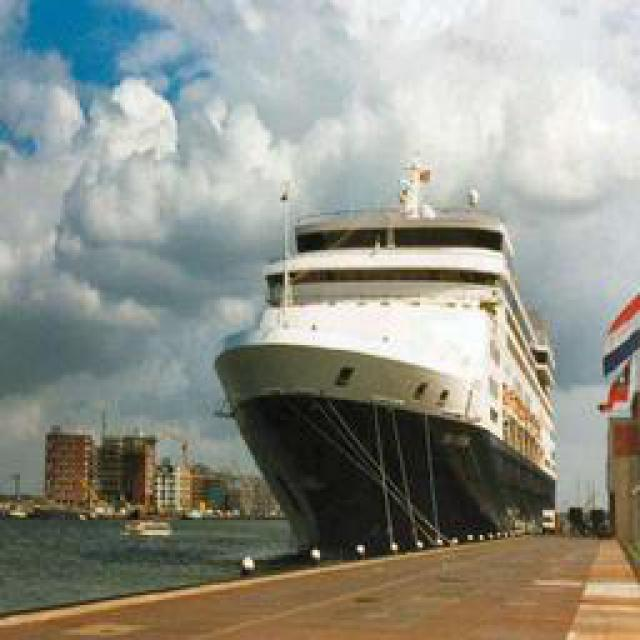Ship: (215, 186, 558, 566)
